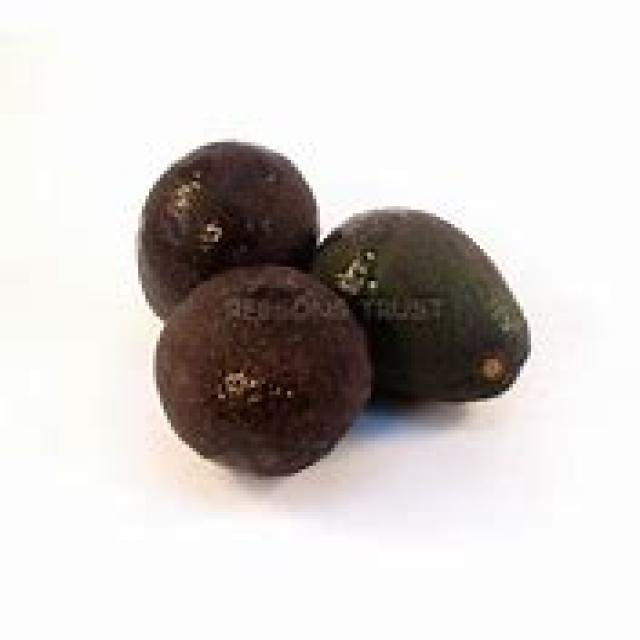Avocado: (140, 284, 356, 486), (337, 214, 562, 401), (108, 140, 326, 332)
